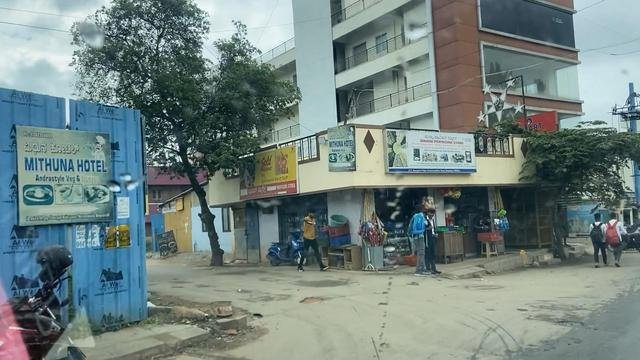RoadDamages: (217, 297, 267, 358), (300, 290, 325, 313)
